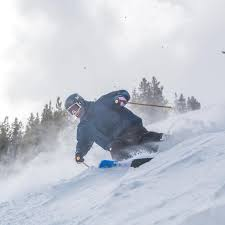skis: (96, 154, 157, 169)
